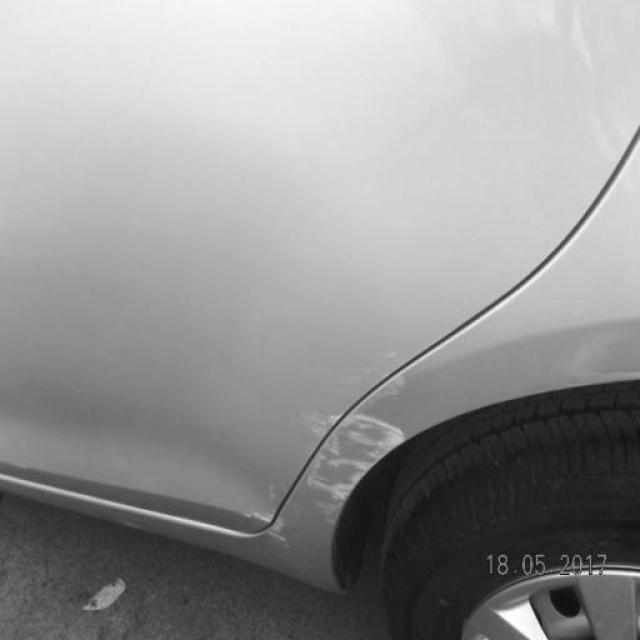scratch: (302, 409, 407, 530), (245, 480, 293, 556)
